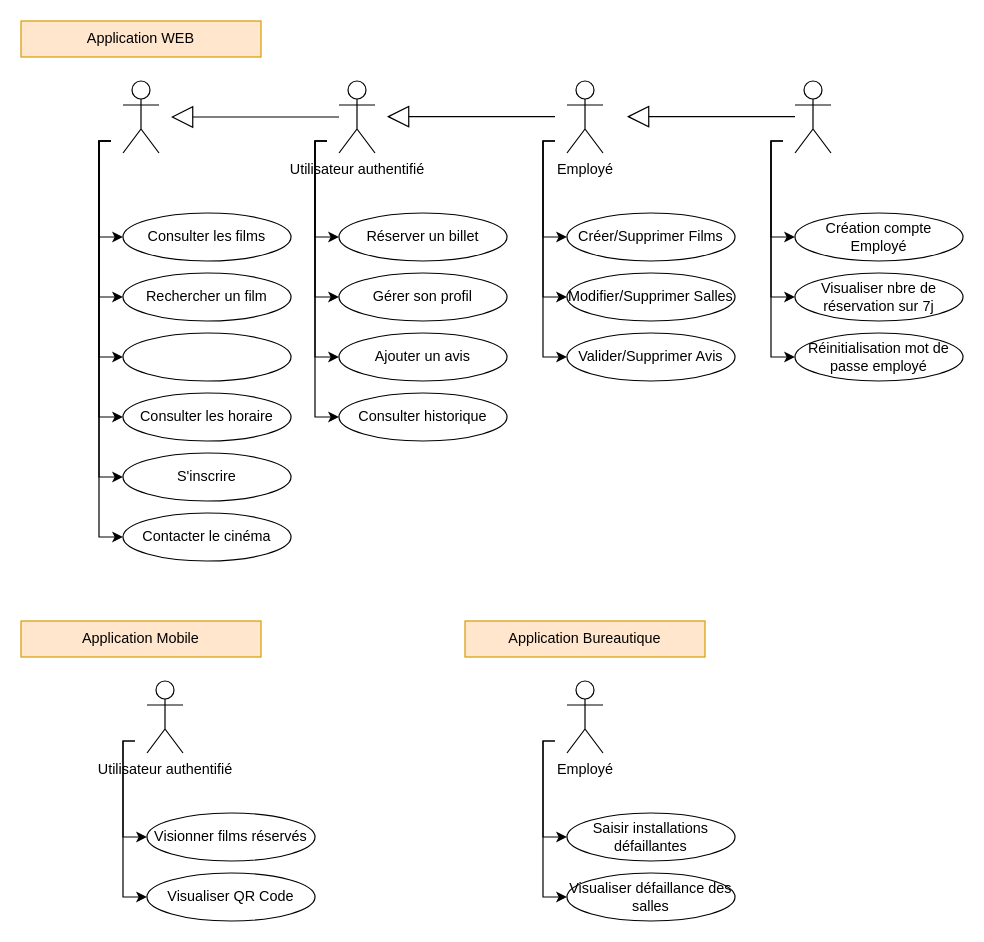
Image size: 984x942. Some labels were removed from this diagram. Each missing label, with the box of its shape:
Admin: (794, 80, 831, 153)
Visiteur: (122, 80, 159, 153)
Voir les avis utilisateurs: (122, 332, 291, 381)
